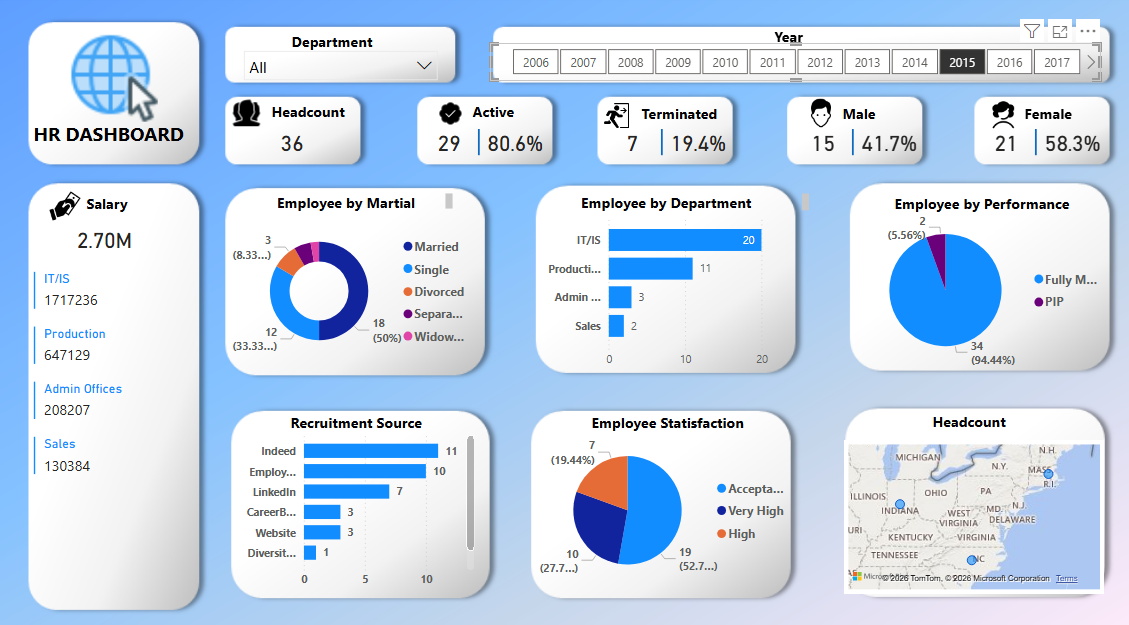

The page's visual inventory and layout, read from the dashboard file:
{"tool":"powerbi","page":{"name":"Page 1","canvas":[1280,720],"ordinal":0},"visuals":[{"type":"textbox","box":[32.1,134.9,191.5,39.8],"z":0},{"type":"card","fields":{"Values":["New Measure.Active"]},"box":[454.9,140.1,101.5,48.8],"z":0,"group":"g1"},{"type":"card","fields":{"Values":["New Measure.Terminated"]},"box":[660.6,140.1,101.5,48.8],"z":0,"group":"g2"},{"type":"card","fields":{"Values":["New Measure.Male"]},"box":[875.2,140.1,101.5,48.8],"z":0,"group":"g4"},{"type":"card","fields":{"Values":["New Measure.Female"]},"box":[1080.8,140.1,101.5,48.8],"z":0,"group":"g3"},{"type":"textbox","box":[322.6,34.7,132.4,33.4],"z":1000},{"type":"card","fields":{"Values":["New Measure.Active %"]},"box":[529.4,140.1,101.5,48.8],"z":1000,"group":"g1"},{"type":"card","fields":{"Values":["New Measure.Terminated %"]},"box":[735.1,140.1,101.5,48.8],"z":1000,"group":"g2"},{"type":"card","fields":{"Values":["New Measure.Male %"]},"box":[949.7,140.1,101.5,48.8],"z":1000,"group":"g4"},{"type":"card","fields":{"Values":["New Measure.Female %"]},"box":[1155.3,140.1,101.5,48.8],"z":1000,"group":"g3"},{"type":"slicer","fields":{"Values":["HRData.Department"]},"box":[264.7,51.4,237.8,43.7],"z":2000},{"type":"shape","box":[526.9,149.1,24.4,29.6],"z":2000,"group":"g1"},{"type":"shape","box":[732.6,149.1,24.4,29.6],"z":2000,"group":"g2"},{"type":"shape","box":[947.2,149.1,24.4,29.6],"z":2000,"group":"g4"},{"type":"shape","box":[1152.8,149.1,24.4,29.6],"z":2000,"group":"g3"},{"type":"slicer","fields":{"Values":["HRData.Hiring year"]},"box":[551.3,52.7,687.6,42.4],"z":3000},{"type":"textbox","box":[866.2,29.6,57.8,38.6],"z":4000},{"type":"textbox","box":[307.1,217.2,206.9,29.6],"z":5000},{"type":"textbox","box":[1001.1,217.2,232.6,38.6],"z":6000},{"type":"textbox","box":[649,217.2,266,29.6],"z":7000},{"type":"textbox","box":[943.3,115.7,57.8,38.6],"z":8000},{"type":"textbox","box":[526.9,113.1,83.5,33.4],"z":9000},{"type":"textbox","box":[717.1,115.7,116.9,33.4],"z":10000},{"type":"textbox","box":[1147.6,115.7,86.1,33.4],"z":11000},{"type":"textbox","box":[300.7,113.1,110.5,38.6],"z":12000},{"type":"card","fields":{"Values":["New Measure.Headcount"]},"box":[277.6,140.1,101.5,48.8],"z":13000},{"type":"group","id":"g1","title":"Group 1","box":[454.9,140.1,176.1,48.8],"z":14000},{"type":"group","id":"g2","title":"Group 1","box":[660.6,140.1,176.1,48.8],"z":15000},{"type":"group","id":"g3","title":"Group 1","box":[1080.8,140.1,176.1,48.8],"z":16000},{"type":"group","id":"g4","title":"Group 1","box":[875.2,140.1,176.1,48.8],"z":17000},{"type":"donutChart","fields":{"Y":["New Measure.Headcount"],"Category":["HRData.MaritalStatus"]},"box":[259.6,246.7,280.2,170.9],"z":18000},{"type":"clusteredBarChart","fields":{"Y":["CountNonNull(HRData.EmployeeID)"],"Category":["HRData.Department"]},"box":[600.2,236.5,287.9,190.2],"z":19000},{"type":"pieChart","fields":{"Y":["New Measure.Headcount"],"Category":["HRData.PerformanceScore"]},"box":[960,226.2,293,209.5],"z":20000},{"type":"clusteredBarChart","fields":{"Category":["HRData.RecruitmentSource"],"Y":["New Measure.Headcount"]},"box":[259,481,279.6,193.2],"z":21000},{"type":"textbox","box":[660.6,463.2,245.3,37],"z":22000},{"type":"textbox","box":[322.1,463.2,178.2,38.4],"z":23000},{"type":"textbox","box":[1043.5,462.7,125.9,39.8],"z":24000},{"type":"pieChart","fields":{"Y":["New Measure.Headcount"],"Category":["HRData.statisfaction status"]},"box":[600.3,482.4,297.4,191.9],"z":25000},{"type":"map","fields":{"Category":["HRData.State"]},"box":[949.7,499.9,293,173.5],"z":26000},{"type":"textbox","box":[92.5,217.2,110.5,38.6],"z":27000},{"type":"card","fields":{"Values":["New Measure.Salary"]},"box":[50.1,244.2,133.7,60.4],"z":28000},{"type":"multiRowCard","fields":{"Values":["Sum(HRData.Salary)","HRData.Department"]},"box":[32.1,304.6,191.5,415.1],"z":29000},{"type":"image","box":[488.4,113.1,37.3,37.3],"z":30000},{"type":"image","box":[254.5,106.7,46.3,50.1],"z":31000},{"type":"image","box":[670.8,113.1,46.3,42.4],"z":32000},{"type":"image","box":[1105.2,104.1,47.6,56.5],"z":33000},{"type":"image","box":[900.9,109.2,45,45],"z":34000},{"type":"image","box":[66.8,30.8,116.9,115.7],"z":35000},{"type":"image","box":[50.1,209.5,45,52.7],"z":35001}]}

Visuals, with their boxes in screenshot pixels (x1, y1, x2, y2), scaled from the page's 1280x720 canvas onto the 1129x625 screenshot:
textbox: (28, 117, 197, 152)
card - New Measure.Active: (401, 122, 491, 164)
card - New Measure.Terminated: (583, 122, 672, 164)
card - New Measure.Male: (772, 122, 861, 164)
card - New Measure.Female: (953, 122, 1043, 164)
textbox: (285, 30, 401, 59)
card - New Measure.Active %: (467, 122, 556, 164)
card - New Measure.Terminated %: (648, 122, 738, 164)
card - New Measure.Male %: (838, 122, 927, 164)
card - New Measure.Female %: (1019, 122, 1109, 164)
slicer - HRData.Department: (233, 45, 443, 83)
shape: (465, 129, 486, 155)
shape: (646, 129, 668, 155)
shape: (835, 129, 857, 155)
shape: (1017, 129, 1038, 155)
slicer - HRData.Hiring year: (486, 46, 1093, 83)
textbox: (764, 26, 815, 59)
textbox: (271, 189, 453, 214)
textbox: (883, 189, 1088, 222)
textbox: (572, 189, 807, 214)
textbox: (832, 100, 883, 134)
textbox: (465, 98, 538, 127)
textbox: (633, 100, 736, 129)
textbox: (1012, 100, 1088, 129)
textbox: (265, 98, 363, 132)
card - New Measure.Headcount: (245, 122, 334, 164)
"Group 1" group: (401, 122, 557, 164)
"Group 1" group: (583, 122, 738, 164)
"Group 1" group: (953, 122, 1109, 164)
"Group 1" group: (772, 122, 927, 164)
donutChart - New Measure.Headcount x HRData.MaritalStatus: (229, 214, 476, 363)
clusteredBarChart - CountNonNull(HRData.EmployeeID) x HRData.Department: (529, 205, 783, 370)
pieChart - New Measure.Headcount x HRData.PerformanceScore: (847, 196, 1105, 378)
clusteredBarChart - HRData.RecruitmentSource x New Measure.Headcount: (228, 418, 475, 585)
textbox: (583, 402, 799, 434)
textbox: (284, 402, 441, 435)
textbox: (920, 402, 1031, 436)
pieChart - New Measure.Headcount x HRData.statisfaction status: (529, 419, 792, 585)
map - HRData.State: (838, 434, 1096, 585)
textbox: (82, 189, 179, 222)
card - New Measure.Salary: (44, 212, 162, 264)
multiRowCard - Sum(HRData.Salary) x HRData.Department: (28, 264, 197, 624)
image: (431, 98, 464, 131)
image: (224, 93, 265, 136)
image: (592, 98, 633, 135)
image: (975, 90, 1017, 139)
image: (795, 95, 834, 134)
image: (59, 27, 162, 127)
image: (44, 182, 84, 228)
